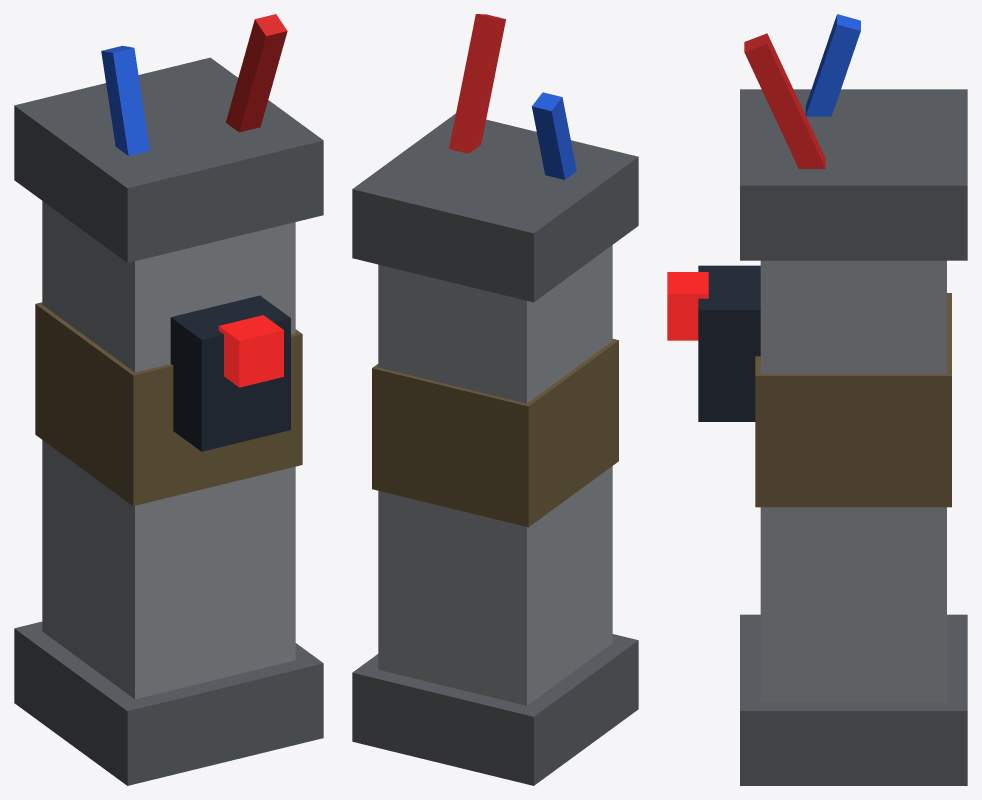
Rendered from gun-pipe.glb.
The picture shows the model from 3 angles, left to right: view 1: azimuth 30°, elevation 25°; view 2: azimuth 150°, elevation 25°; view 3: azimuth 270°, elevation 25°; orthographic projection. The views are drawn at different scales.
Parts seen in each view (by area): view 1: pipe, led; view 2: pipe; view 3: pipe, led.
Part boxes in pixels (box(x1,y1,x2,y2)): pipe: box(14, 14, 323, 785); led: box(218, 315, 283, 387); pipe: box(352, 14, 638, 785); pipe: box(698, 14, 967, 785); led: box(667, 272, 708, 340).
Size of the model in its own units: 0.11 by 0.3868 by 0.145.
